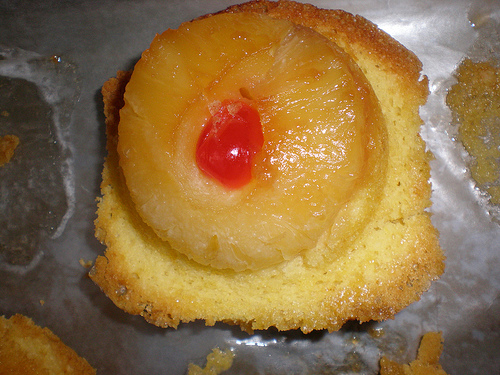pineapple: (117, 11, 389, 272)
